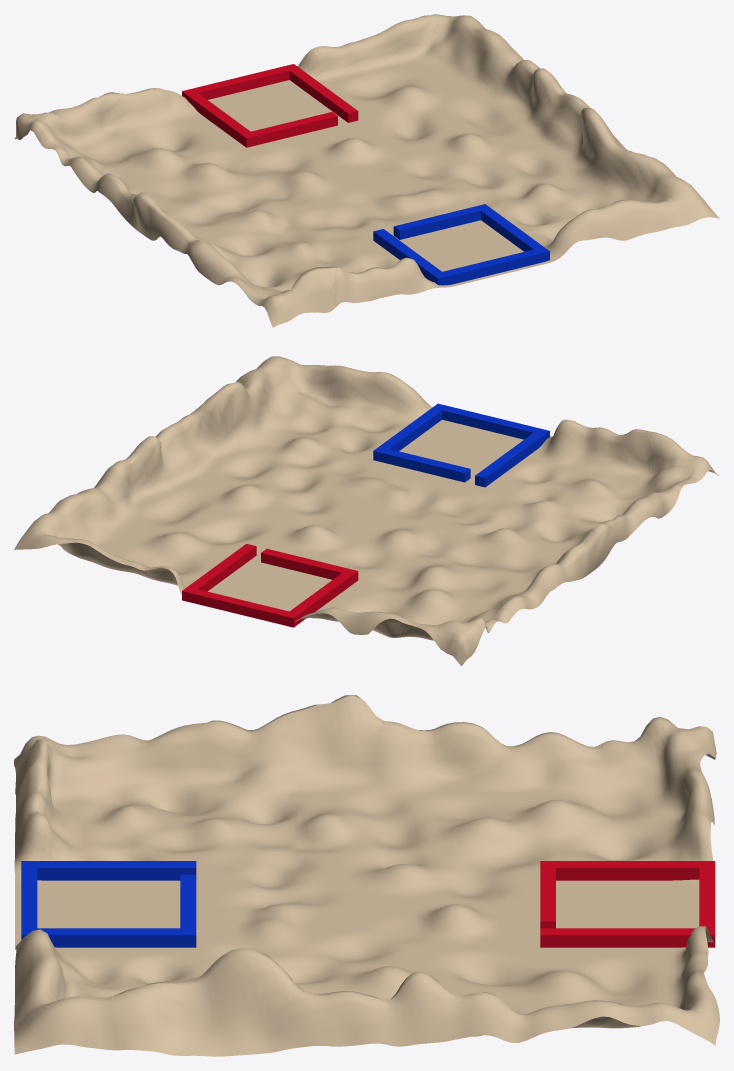
Rendered from level_xlarge.fbx.
3 views of the same model, one above another, from view 1: azimuth 30°, elevation 25°; view 2: azimuth 150°, elevation 25°; view 3: azimuth 270°, elevation 25° (orthographic). The views are drawn at different scales.
Visible parts, largest first — view 1: Plane, Plane_001, Plane_002; view 2: Plane, Plane_002, Plane_001; view 3: Plane, Plane_002, Plane_001.
Boxes of the visible parts, x1,y1,x2,y2 form: Plane: (14, 14, 719, 327); Plane_001: (182, 64, 358, 147); Plane_002: (373, 204, 549, 287); Plane: (14, 356, 718, 666); Plane_002: (373, 403, 549, 487); Plane_001: (182, 544, 358, 627); Plane: (14, 695, 719, 1056); Plane_002: (21, 861, 196, 947); Plane_001: (540, 861, 715, 947).
Bounding box in the file's own units: 206 × 31.07 × 202.
